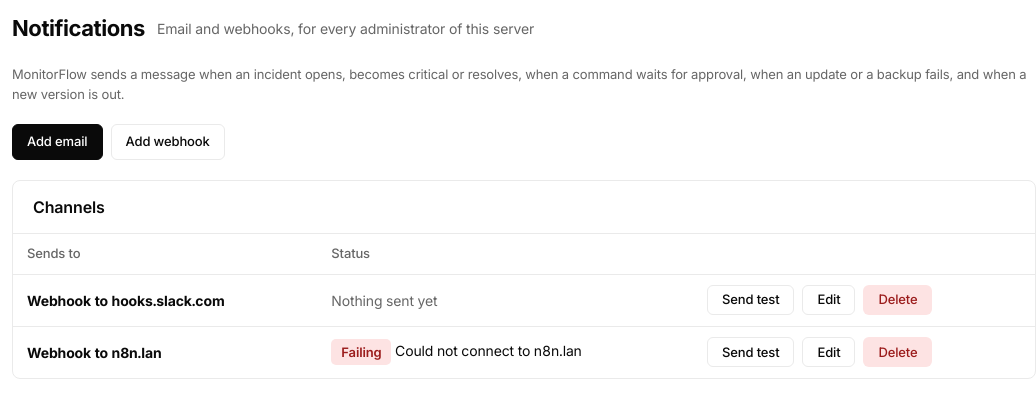
NotificationsPage › shows each channel's state and tests it on demand
This screenshot has width=1036, height=396.
Expected: the text "Could not connect to n8n.lan" is shown, x1=395 y1=342 x2=582 y2=360
Expected: the text "Nothing sent yet" is shown, x1=331 y1=292 x2=437 y2=308
Click the button "Send test" in the row of "Webhook to hooks.slack.com". click: click(751, 300)
box: x1=707 y1=285 x2=794 y2=315
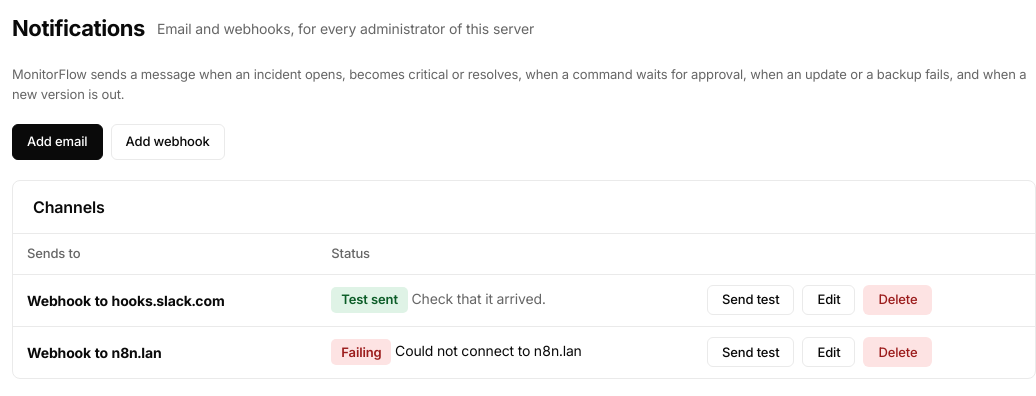
Now the text "Test sent" is shown, box x1=331 y1=287 x2=408 y2=313
